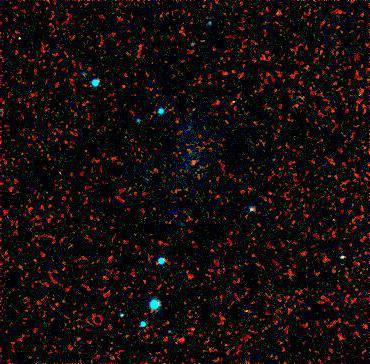star: (181, 148, 211, 178)
